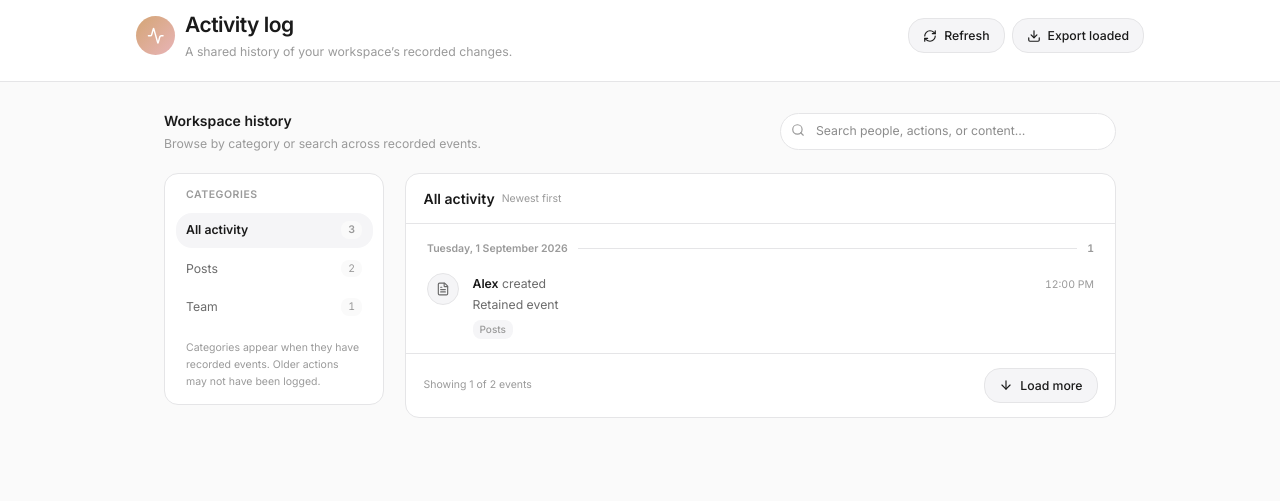
Activity page › keeps loaded events after a pagination error and retries the failed offset
expect the text "Retained event" is shown: met, box [472,297,558,312]
What coordinates should you click on to do the following:
click the button "Load more"
I would click on:
 (1041, 385)
Its box is [984,368,1098,403].
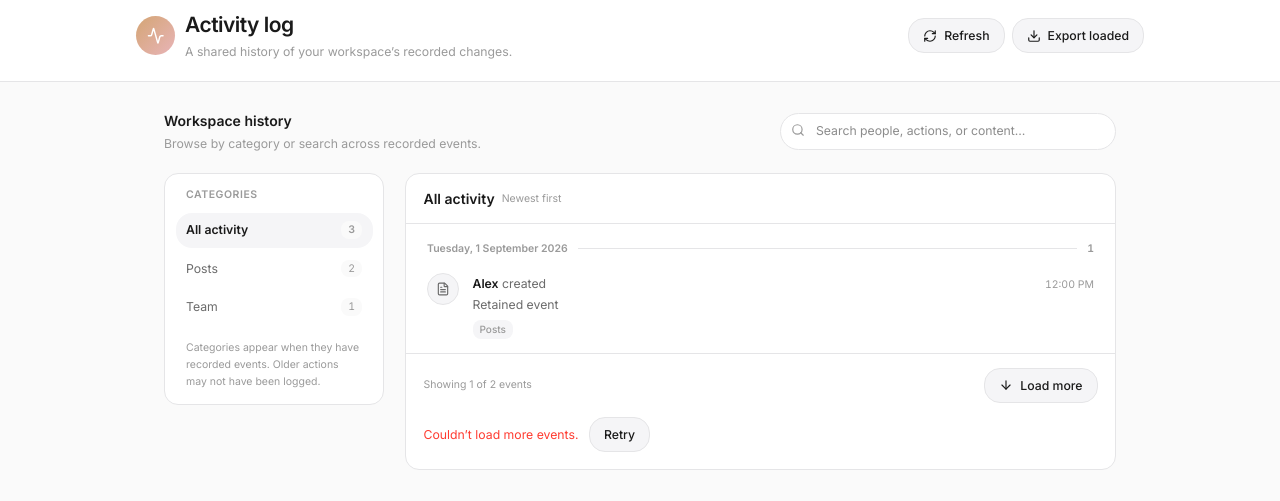
expect the text "Retained event" is shown: met, box [472,297,558,312]
expect the message "Couldn’t load more events. Retry" is shown: met, box [424,417,650,452]
What coordinates should you click on to do the following:
click the button "Retry"
I would click on:
 (620, 434)
Its box is [589,417,650,452].
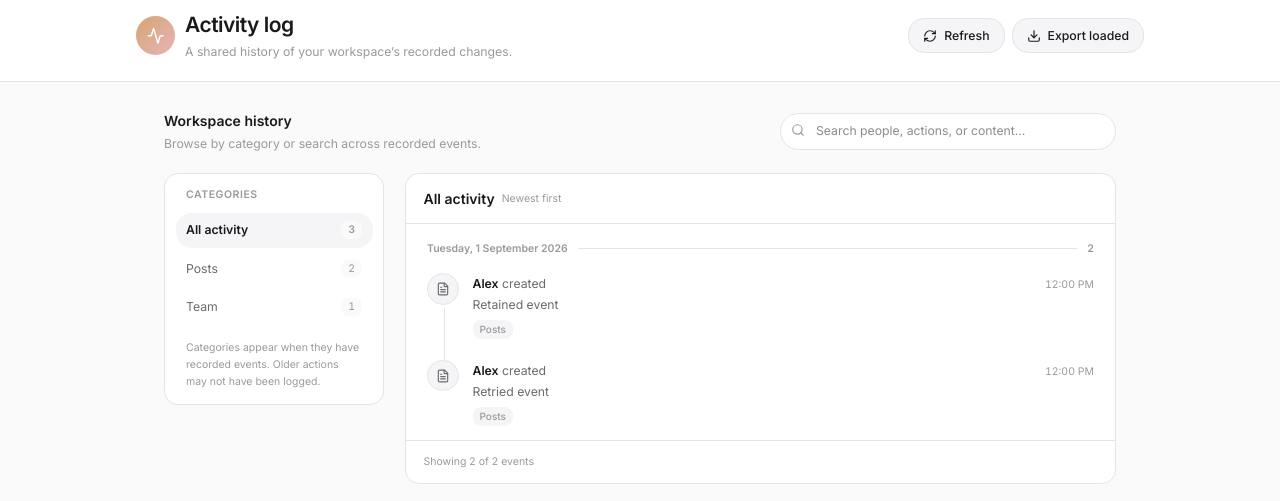
expect the text "Retried event" is shown: met, box [472,384,549,398]
expect the number of list items is 2: met, box [427,273,1094,360]; [427,360,1094,433]
expect the message "Couldn’t load more events. Retry" is gone: met
